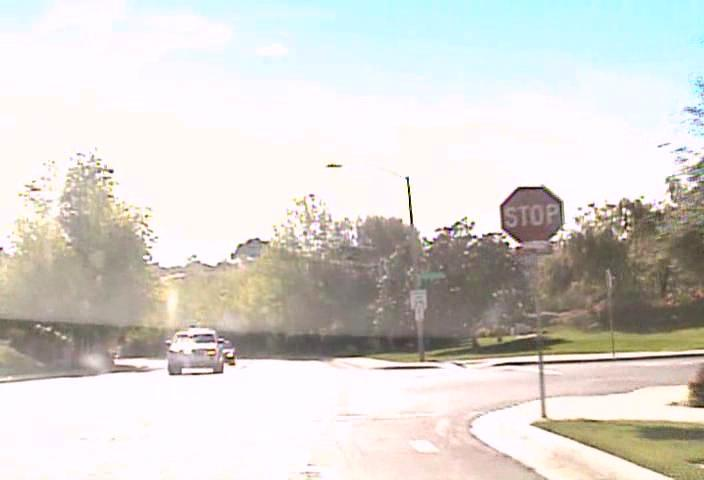stop: (498, 185, 565, 245)
